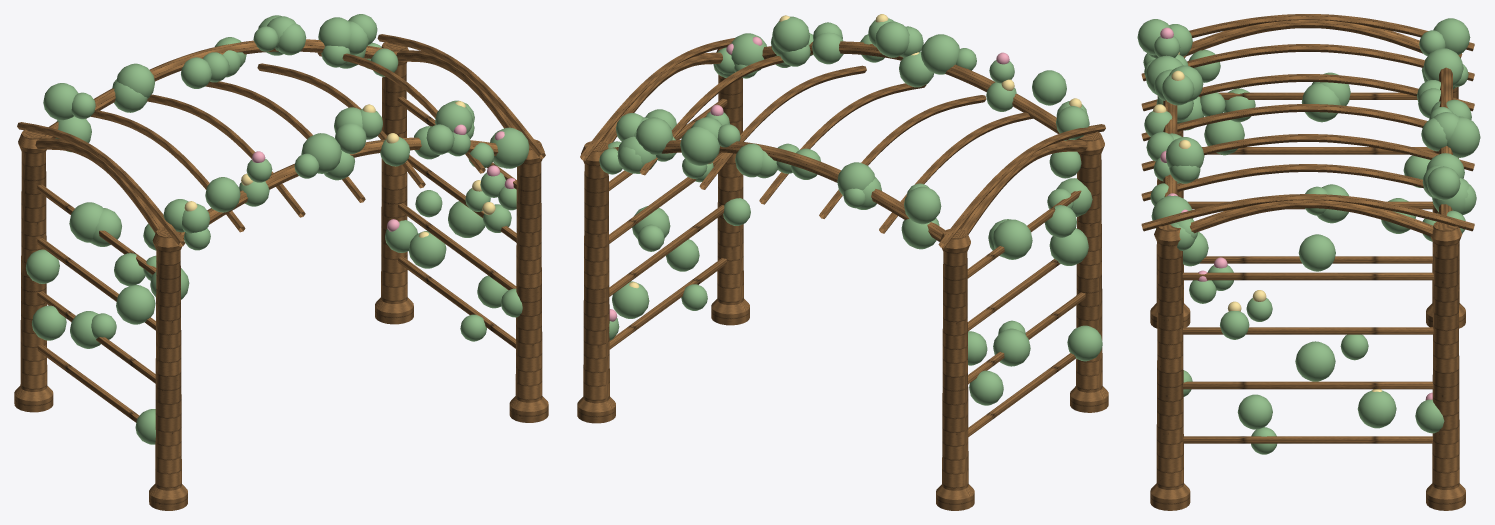
File: th35_pergola.glb
The picture shows the model from 3 angles, left to right: view 1: azimuth 30°, elevation 25°; view 2: azimuth 150°, elevation 25°; view 3: azimuth 270°, elevation 25°; orthographic projection. The views are drawn at different scales.
Visible parts, largest first — view 1: Pfosten, Pfosten.002, Pfosten.001, Pfosten.003, Bogen.001, Sparren, Sparren.006, Bogen, QBogen, Sparren.001, Sparren.002, QBogen.001 (+38 smaller); view 2: Pfosten.001, Pfosten.003, Pfosten, Pfosten.002, Bogen.001, Bogen, Sparren, Sparren.004, Sparren.006, QBogen, Sparren.002, Sparren.003 (+38 smaller); view 3: Pfosten.002, Pfosten.003, Sparren.006, QBogen.001, QBogen, Cube.005, Sparren.004, Sparren.003, Cube.007, Sparren.005, Sparren.001, Sparren.002 (+51 smaller).
Part boxes in pixels (x1=…): Pfosten: x1=149, y1=227, x2=187, y2=510; Pfosten.002: x1=509, y1=139, x2=548, y2=422; Pfosten.001: x1=14, y1=129, x2=53, y2=412; Pfosten.003: x1=375, y1=42, x2=413, y2=324; Bogen.001: x1=47, y1=39, x2=383, y2=138; Sparren: x1=17, y1=122, x2=185, y2=246; Sparren.006: x1=377, y1=34, x2=545, y2=158; Bogen: x1=181, y1=137, x2=498, y2=239; QBogen: x1=35, y1=138, x2=163, y2=233; Sparren.001: x1=91, y1=110, x2=245, y2=232; Sparren.002: x1=147, y1=94, x2=305, y2=217; QBogen.001: x1=396, y1=50, x2=516, y2=129; Pfosten.001: x1=936, y1=228, x2=974, y2=510; Pfosten.003: x1=577, y1=141, x2=615, y2=423; Pfosten: x1=1070, y1=131, x2=1108, y2=412; Pfosten.002: x1=711, y1=48, x2=749, y2=325; Bogen.001: x1=607, y1=140, x2=945, y2=241; Bogen: x1=762, y1=41, x2=1074, y2=140; Sparren: x1=938, y1=124, x2=1105, y2=248; Sparren.004: x1=699, y1=65, x2=866, y2=189; Sparren.006: x1=580, y1=38, x2=734, y2=160; QBogen: x1=960, y1=140, x2=1087, y2=234; Sparren.002: x1=819, y1=95, x2=986, y2=218; Sparren.003: x1=759, y1=83, x2=926, y2=204; Pfosten.002: x1=1150, y1=224, x2=1190, y2=510; Pfosten.003: x1=1426, y1=221, x2=1465, y2=510; Sparren.006: x1=1141, y1=194, x2=1474, y2=231; QBogen.001: x1=1190, y1=200, x2=1433, y2=236; QBogen: x1=1185, y1=20, x2=1422, y2=56; Cube.005: x1=1183, y1=381, x2=1433, y2=389; Sparren.004: x1=1141, y1=134, x2=1474, y2=171; Sparren.003: x1=1141, y1=104, x2=1426, y2=141; Cube.007: x1=1182, y1=272, x2=1433, y2=280; Sparren.005: x1=1141, y1=164, x2=1423, y2=201; Sparren.001: x1=1141, y1=44, x2=1474, y2=81; Sparren.002: x1=1141, y1=74, x2=1474, y2=111.
Size of the model in its own units: 3.87 by 3.11 by 2.74.
4 materials, 1 textured.
